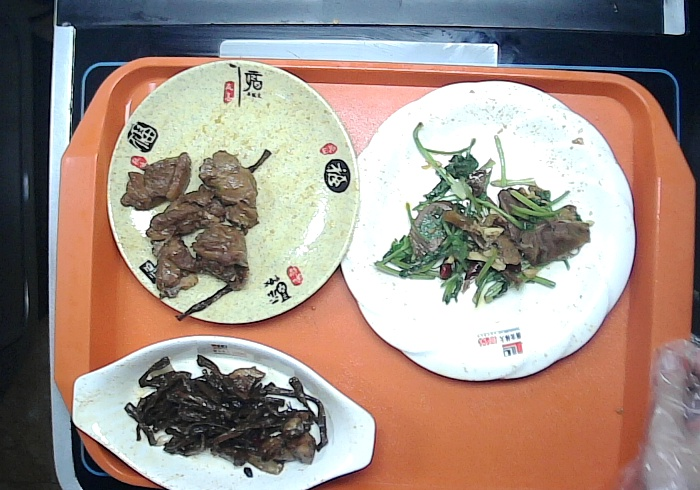NLDX-Bai_Zhe_Yuan_Pan: (331, 76, 644, 390)
NLDX-Fu_Zi_Yuan_Pan: (93, 55, 364, 330)
NLDX-Yu_Pan: (68, 329, 379, 490)
